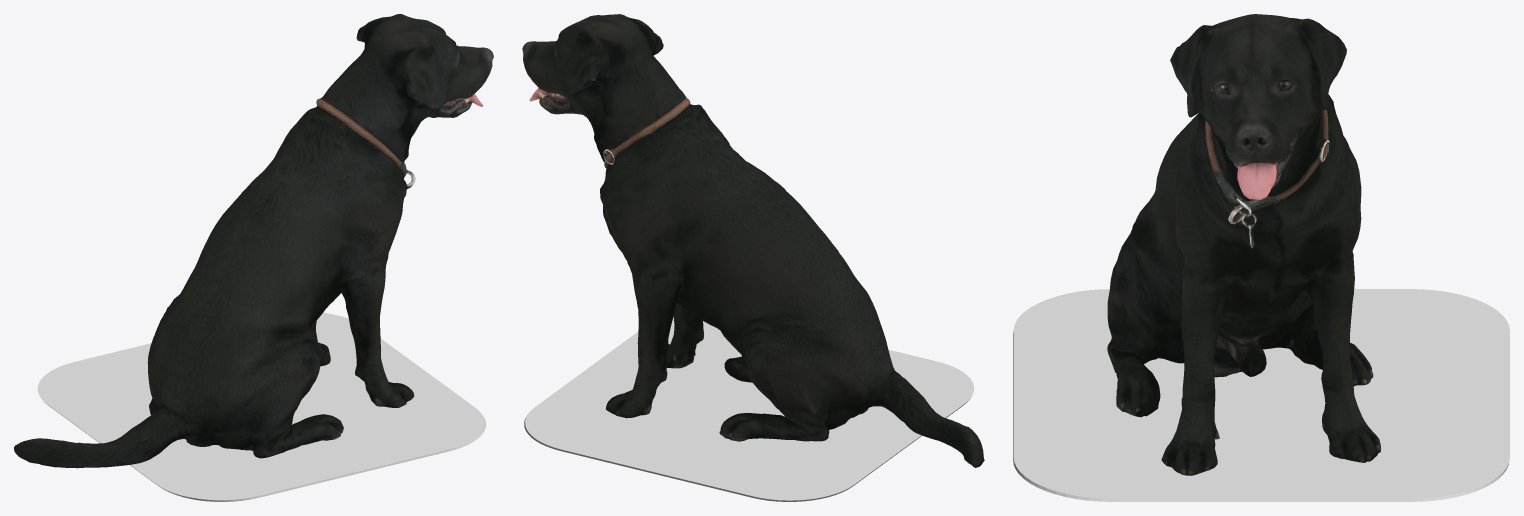
Rendered from doggolovers.glb.
3 renders of one model, left to right at view 1: azimuth 30°, elevation 25°; view 2: azimuth 150°, elevation 25°; view 3: azimuth 270°, elevation 25°, orthographic. The views are drawn at different scales.
Visible parts, largest first — view 1: DOG_Anton_A_mat35_0, Plane; view 2: DOG_Anton_A_mat35_0, Plane; view 3: DOG_Anton_A_mat35_0, Plane.
Part boxes in pixels (left/top/right/bottom): DOG_Anton_A_mat35_0: left=14, top=14, right=493, bottom=468; Plane: left=37, top=312, right=485, bottom=501; DOG_Anton_A_mat35_0: left=522, top=14, right=984, bottom=467; Plane: left=524, top=316, right=974, bottom=501; DOG_Anton_A_mat35_0: left=1107, top=14, right=1380, bottom=475; Plane: left=1013, top=289, right=1509, bottom=501.
Bounding box in the file's own units: 1.08 × 0.7724 × 0.7376.
Materials: 1 (1 with a texture image).
